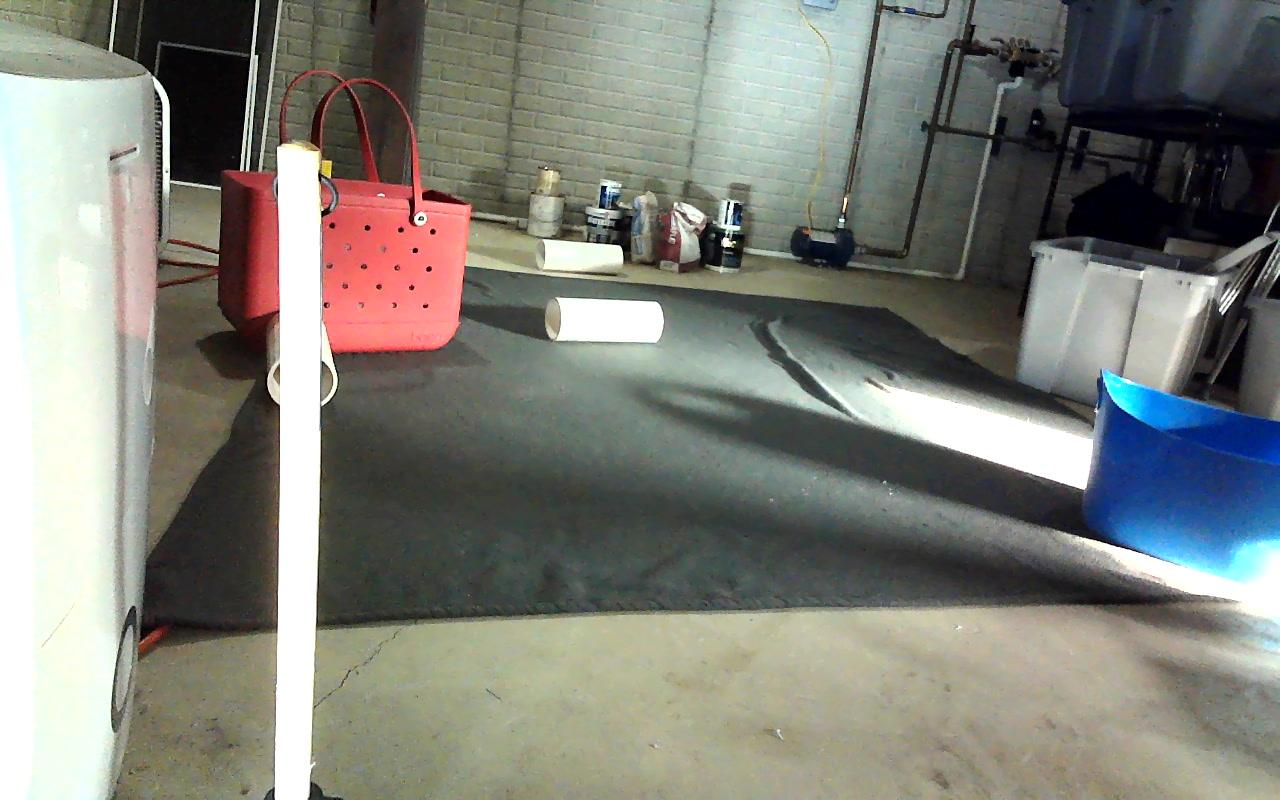coral: (267, 310, 336, 407), (544, 298, 662, 342), (542, 241, 623, 273)
